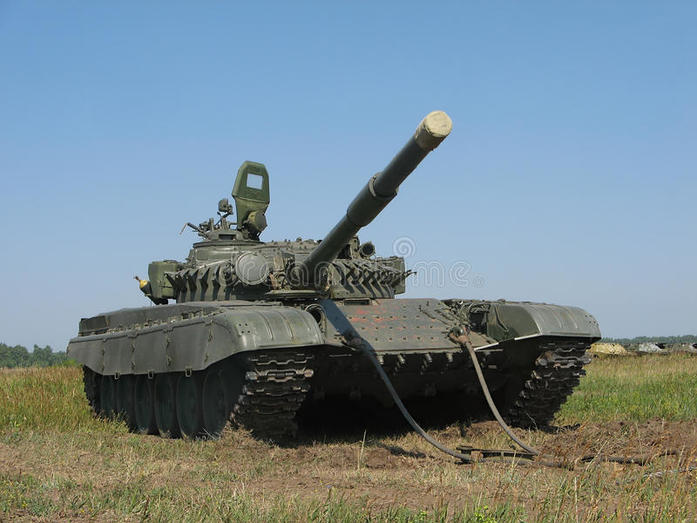t72: (76, 118, 595, 431)
